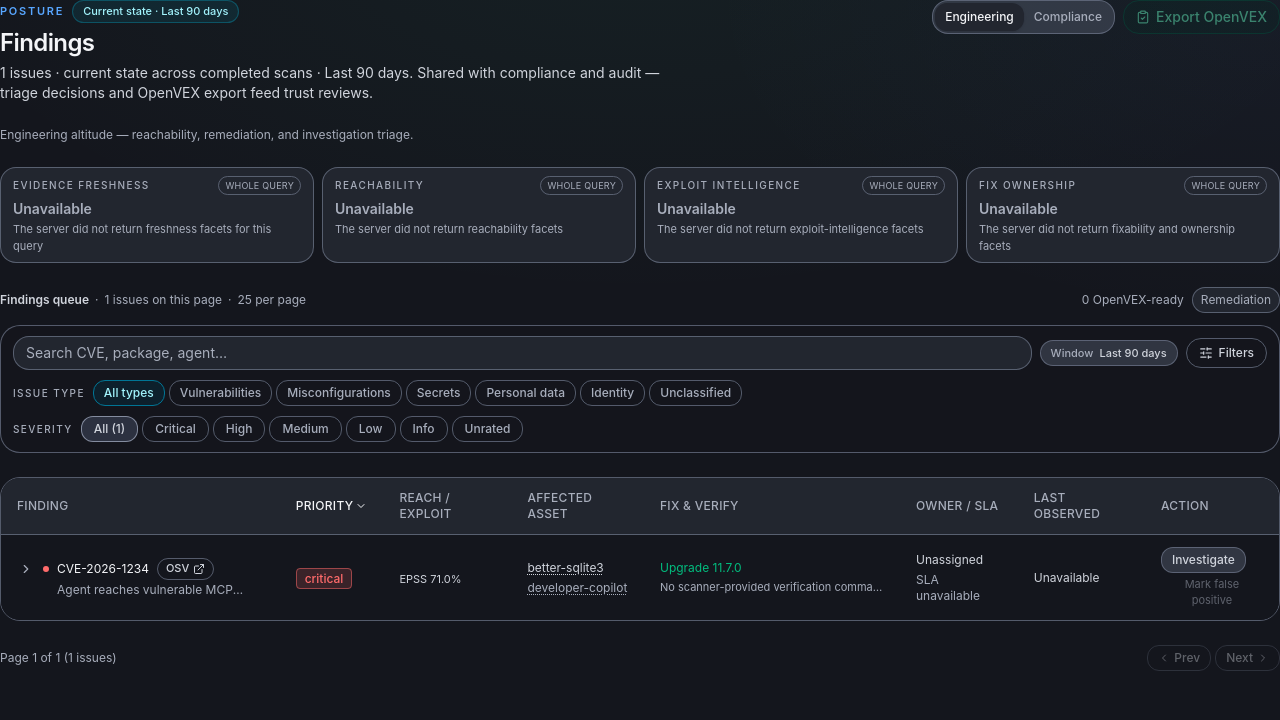
FindingsPage › renders exception and triage writes disabled for a viewer
Expected: the button "CVE-2026-1234" is shown, [57,561,149,577]
Expected: the button "Mark false positive" is disabled, [1161,577,1263,608]
Click the button named "Open details for CVE-2026-1234" at [26, 569], box [17,560,35,578]
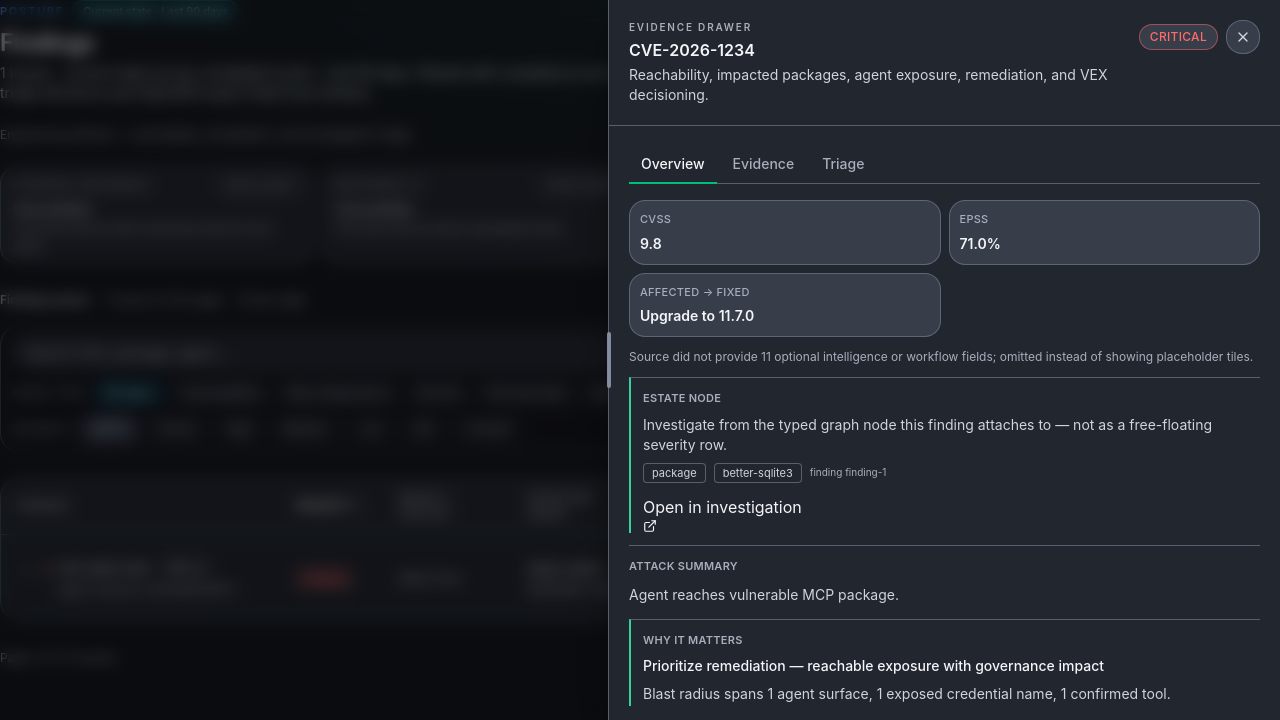
Click the tab "Triage" at [843, 165], box [810,146,876,184]
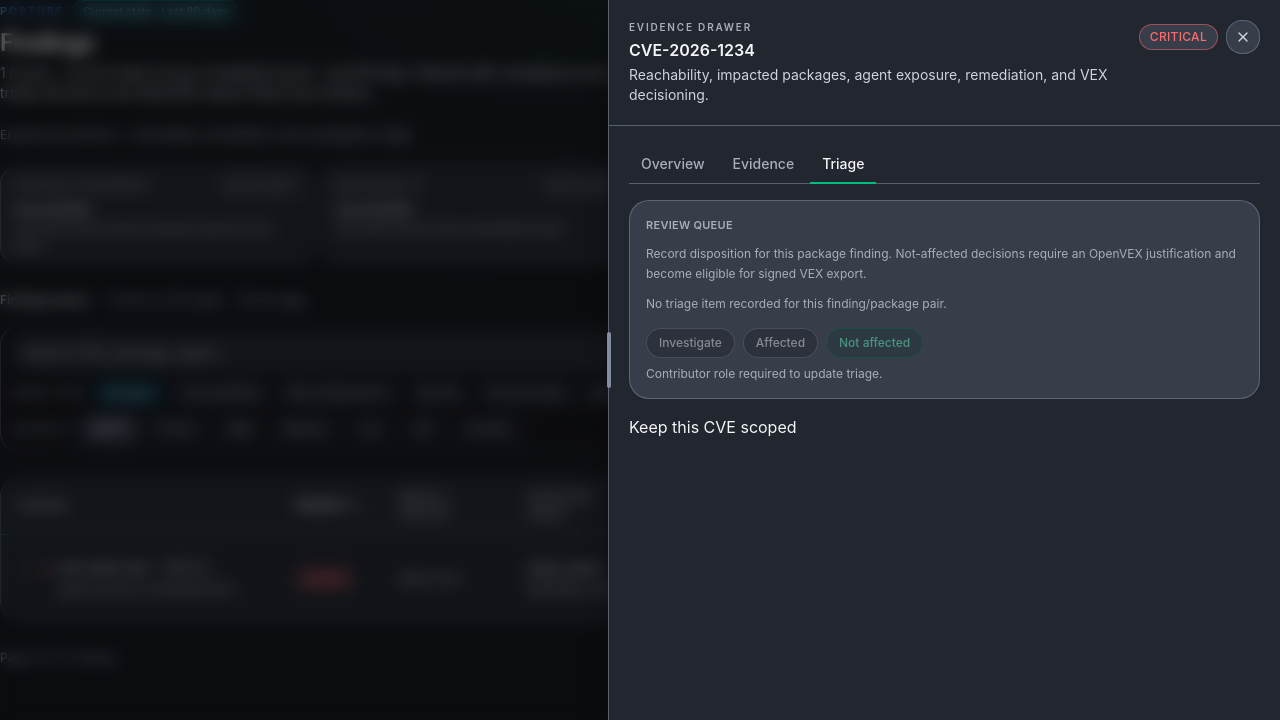
Now the button "Investigate" is disabled, box [646,328,735,358]
Now the button "Affected" is disabled, box [743,328,818,358]
Now the button "Not affected" is disabled, box [826,328,923,358]
